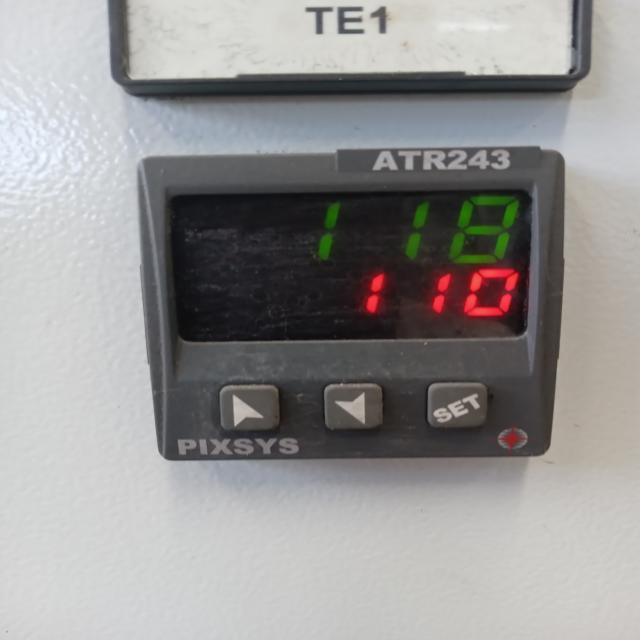display: (170, 186, 536, 341)
frame: (312, 192, 523, 266), (358, 268, 520, 322), (447, 149, 513, 172)
gauge: (133, 146, 563, 459)
